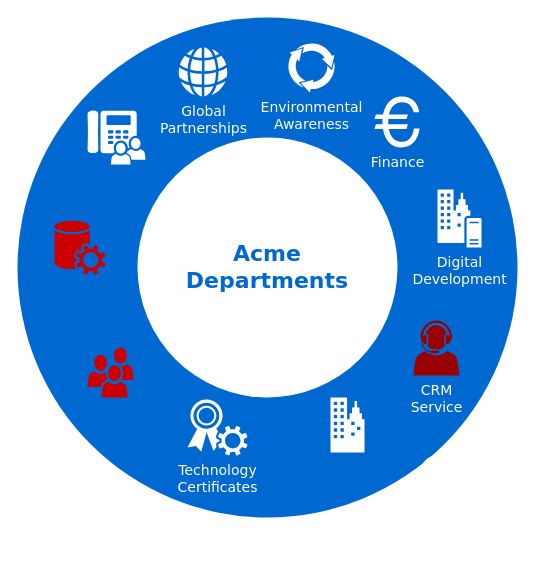
Some shapes in this 534 by 568 pixel diagram are drawn without their labels. The shapes that lost their labels are listed below. From the top down, each one's centre as x and y in pixels, then its label:
(x=116, y=137): Response Group
(x=79, y=247): BI Services
(x=110, y=372): Marketing Services
(x=347, y=424): Infrastructure
